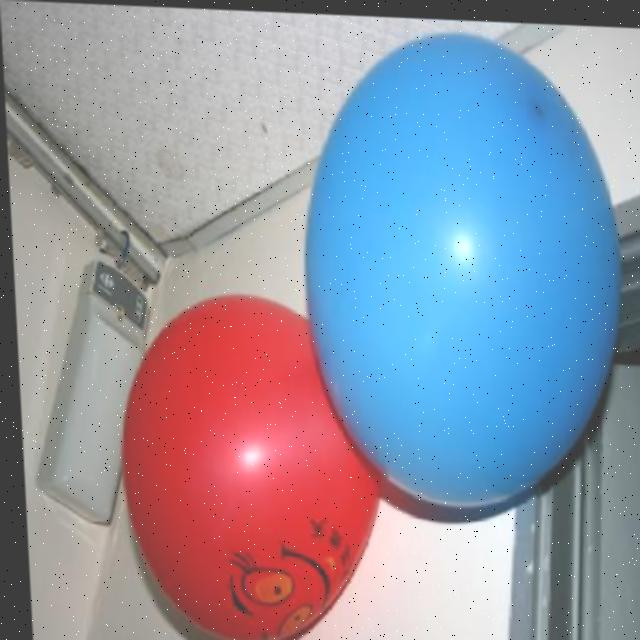balloon: (271, 13, 626, 511), (92, 288, 406, 640)
